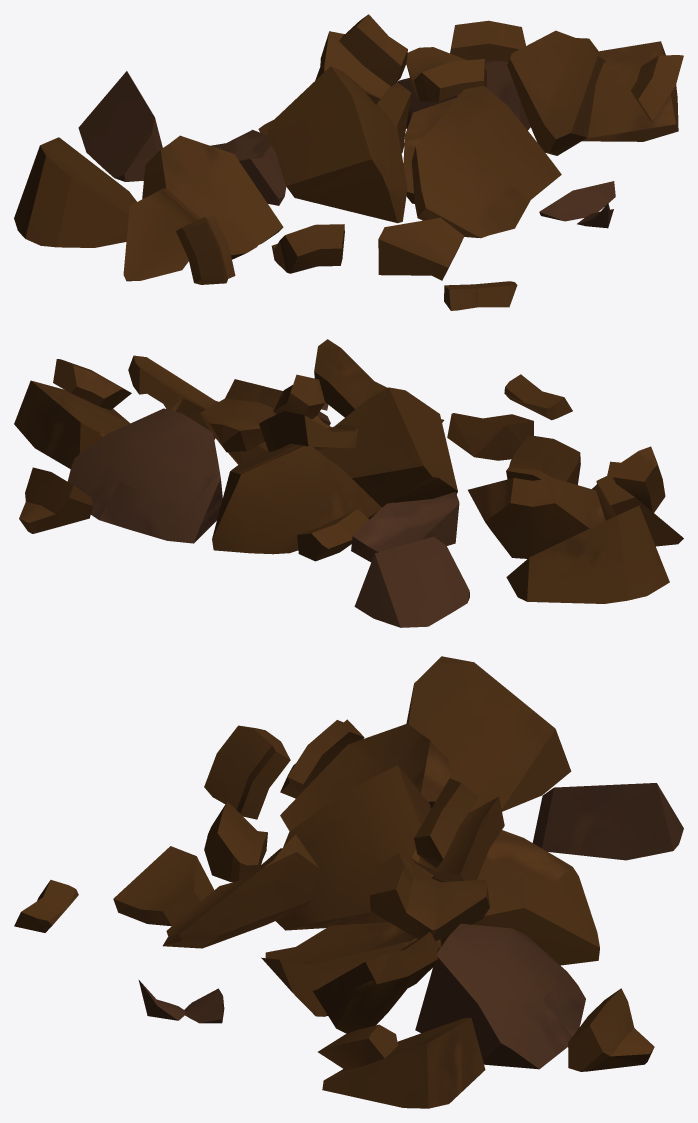
The model's file is Vase_Rubble_Medium.gltf.
3 renders of one model, top to bottom at view 1: azimuth 30°, elevation 25°; view 2: azimuth 150°, elevation 25°; view 3: azimuth 270°, elevation 25°, orthographic. The views are drawn at different scales.
Visible parts, largest first — view 1: Vase_Rubble_Medium; view 2: Vase_Rubble_Medium; view 3: Vase_Rubble_Medium.
Part boxes in pixels (x1,y1,x2,y2): Vase_Rubble_Medium: (14,14,683,310); Vase_Rubble_Medium: (14,339,683,627); Vase_Rubble_Medium: (14,656,683,1108).
Bounding box in the file's own units: 0.7969 × 0.1746 × 0.5985.
Materials: 1 (1 with a texture image).
